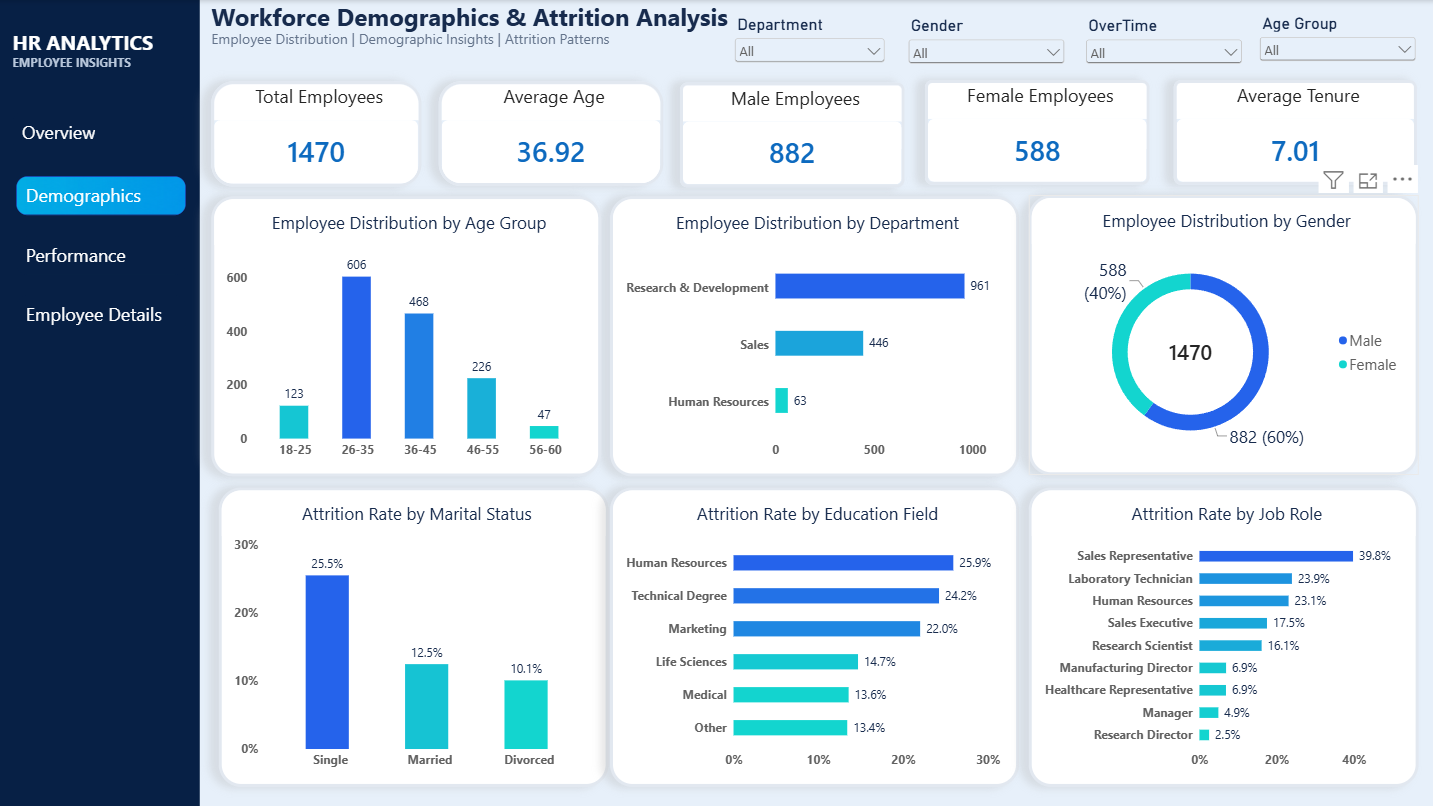

The dashboard page shown, as its layout file describes it:
{"tool":"powerbi","page":{"name":"Demographics & Attrition","canvas":[1920,1080],"ordinal":1},"visuals":[{"type":"shape","box":[0,0,266.9,1079.7],"z":0},{"type":"textbox","box":[17.4,38.4,212.8,40.1],"z":1000},{"type":"textbox","box":[17.4,71.5,183.1,36.6],"z":2000},{"type":"actionButton","box":[17.4,148.3,230.2,57.6],"z":3000},{"type":"actionButton","box":[20.9,235.5,226.7,52.3],"z":4000},{"type":"actionButton","box":[20.9,315.7,226.7,52.3],"z":5000},{"type":"textbox","box":[282,0,708,72],"z":6000},{"type":"textbox","box":[282,38,818,46],"z":7000},{"type":"cardVisual","title":"Total Employees","fields":{"Data":["Employees.Total Employees"]},"box":[282.3,108.6,280.5,141.2],"z":8000},{"type":"cardVisual","title":"Average Age","fields":{"Data":["Employees.Average Age"]},"box":[586.3,108.6,300,140],"z":9000},{"type":"cardVisual","title":"Male Employees","fields":{"Data":["Employees.Male Employees"]},"box":[908.4,110.4,300,140],"z":10000},{"type":"cardVisual","title":"Female Employees","fields":{"Data":["Employees.Female Employees"]},"box":[1236,106.8,300,140],"z":11000},{"type":"cardVisual","title":"Average Tenure","fields":{"Data":["Employees.Average Tenure"]},"box":[1567.2,106.8,325,140],"z":12000},{"type":"clusteredBarChart","title":"Employee Distribution by Department","fields":{"Category":["Employees.Department"],"Y":["Employees.Total Employees"]},"box":[814.3,262.4,546.5,374.6],"z":13000},{"type":"clusteredColumnChart","title":"Employee Distribution by Age Group","fields":{"Category":["Employees.Age Group"],"Y":["Employees.Total Employees"]},"box":[282.3,262.4,520.8,374.3],"z":14000},{"type":"clusteredColumnChart","title":"Attrition Rate by Marital Status","fields":{"Category":["Employees.MaritalStatus"],"Y":["Employees.Attrition Rate"]},"box":[292,652,521.2,399.9],"z":15000},{"type":"donutChart","title":"Employee Distribution by Gender","fields":{"Category":["Employees.Gender"],"Y":["Employees.Total Employees"]},"box":[1374.4,259.9,520.8,374.3],"z":16000},{"type":"clusteredBarChart","title":"Attrition Rate by Education Field","fields":{"Category":["Employees.EducationField"],"Y":["Employees.Attrition Rate"]},"box":[814.3,651.5,546.5,399.9],"z":17000},{"type":"slicer","fields":{"Values":["Employees.Department"]},"box":[977.2,19.9,210,65],"z":18000},{"type":"slicer","fields":{"Values":["Employees.Gender"]},"box":[1208.9,21.7,217.7,63.1],"z":19000},{"type":"slicer","fields":{"Values":["Employees.OverTime"]},"box":[1445.9,21.7,217.7,63.1],"z":20000},{"type":"slicer","fields":{"Values":["Employees.Age Group"]},"box":[1677.9,19.2,217.7,63.1],"z":21000},{"type":"clusteredBarChart","title":"Attrition Rate by Job Role","fields":{"Category":["Employees.JobRole"],"Y":["Employees.Attrition Rate"]},"box":[1373.5,651.5,521.2,399.9],"z":22000},{"type":"actionButton","box":[21.7,394.5,226.7,52.3],"z":23000}]}

Visuals, with their boxes on the page's 1920x1080 design canvas (x1, y1, x2, y2). These are canvas units, not pixel positions in the 1433x806 screenshot, which may show the page scaled, cropped or inside an application window:
shape: BBox(0, 0, 267, 1080)
textbox: BBox(17, 38, 230, 78)
textbox: BBox(17, 72, 200, 108)
actionButton: BBox(17, 148, 248, 206)
actionButton: BBox(21, 236, 248, 288)
actionButton: BBox(21, 316, 248, 368)
textbox: BBox(282, 0, 990, 72)
textbox: BBox(282, 38, 1100, 84)
"Total Employees" cardVisual: BBox(282, 109, 563, 250)
"Average Age" cardVisual: BBox(586, 109, 886, 249)
"Male Employees" cardVisual: BBox(908, 110, 1208, 250)
"Female Employees" cardVisual: BBox(1236, 107, 1536, 247)
"Average Tenure" cardVisual: BBox(1567, 107, 1892, 247)
"Employee Distribution by Department" clusteredBarChart: BBox(814, 262, 1361, 637)
"Employee Distribution by Age Group" clusteredColumnChart: BBox(282, 262, 803, 637)
"Attrition Rate by Marital Status" clusteredColumnChart: BBox(292, 652, 813, 1052)
"Employee Distribution by Gender" donutChart: BBox(1374, 260, 1895, 634)
"Attrition Rate by Education Field" clusteredBarChart: BBox(814, 652, 1361, 1051)
slicer - Employees.Department: BBox(977, 20, 1187, 85)
slicer - Employees.Gender: BBox(1209, 22, 1427, 85)
slicer - Employees.OverTime: BBox(1446, 22, 1664, 85)
slicer - Employees.Age Group: BBox(1678, 19, 1896, 82)
"Attrition Rate by Job Role" clusteredBarChart: BBox(1374, 652, 1895, 1051)
actionButton: BBox(22, 394, 248, 447)
